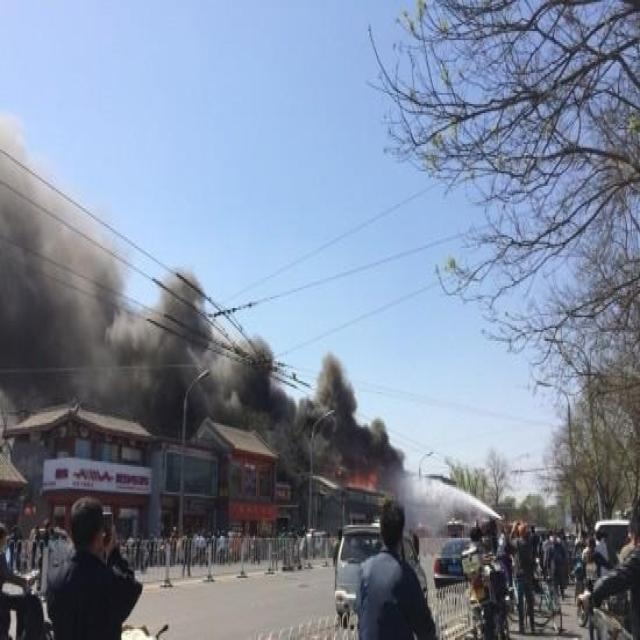Smoke: (1, 112, 405, 492)
